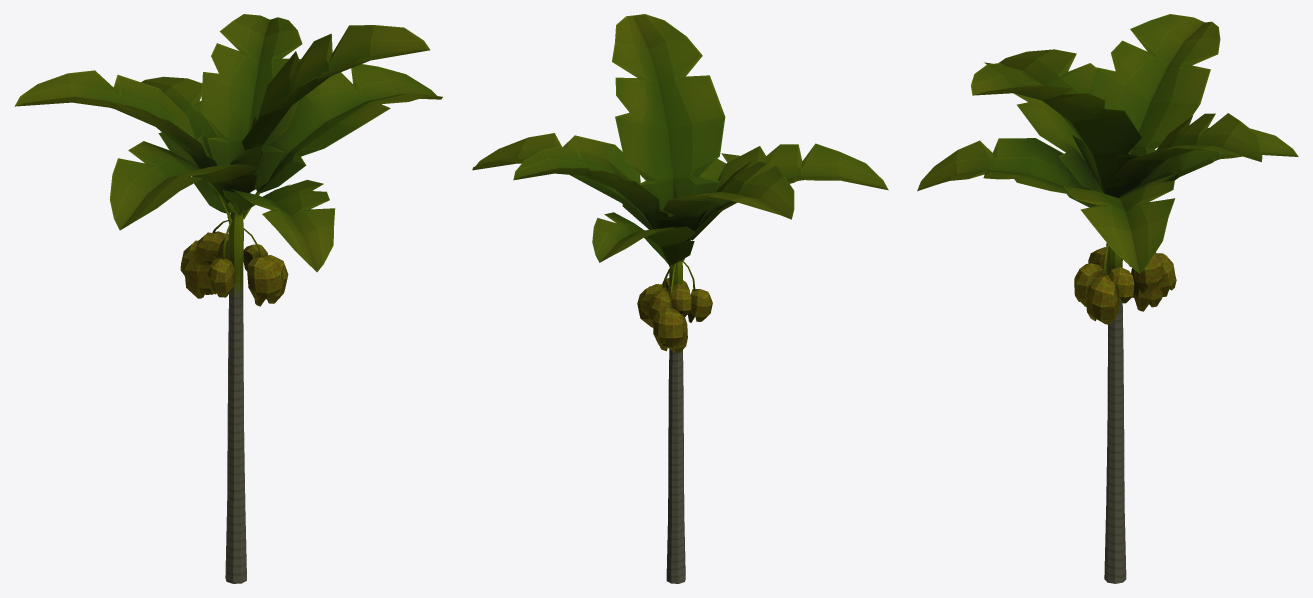
The model's file is palm tree_2.gltf.
The picture shows the model from 3 angles, left to right: view 1: azimuth 30°, elevation 25°; view 2: azimuth 150°, elevation 25°; view 3: azimuth 270°, elevation 25°; orthographic projection. The views are drawn at different scales.
Visible parts, largest first — view 1: node-0; view 2: node-0; view 3: node-0.
Part boxes in pixels (bbox=[...]): node-0: bbox=[14, 14, 442, 583]; node-0: bbox=[472, 14, 888, 583]; node-0: bbox=[917, 14, 1298, 583].
Bounding box in the file's own units: 4.35 × 5.89 × 3.72.
1 material, 1 textured.
